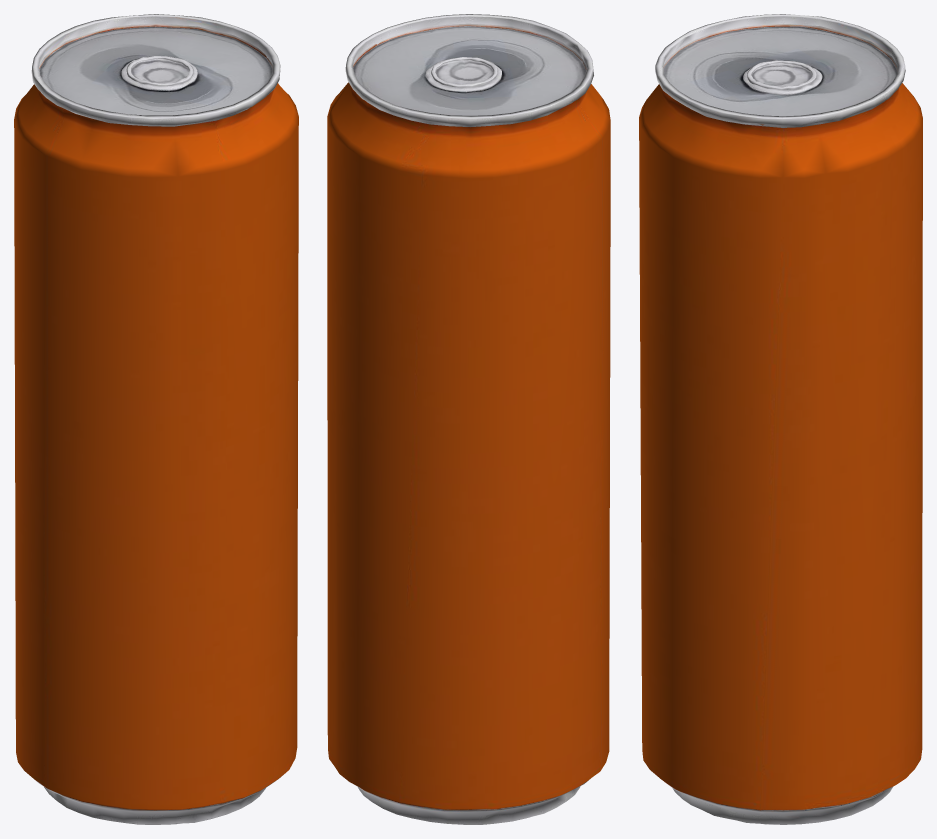
Rendered from canned-drink.glb.
3 views of the same model, side by side, from view 1: azimuth 30°, elevation 25°; view 2: azimuth 150°, elevation 25°; view 3: azimuth 270°, elevation 25° (orthographic).
Parts seen in each view (by area): view 1: canned-drink; view 2: canned-drink; view 3: canned-drink.
Boxes of the visible parts, <box> form: canned-drink: <box>14,14,298,824</box>; canned-drink: <box>327,14,610,824</box>; canned-drink: <box>639,14,922,824</box>.
Bounding box in the file's own units: 0.0508 × 0.14 × 0.0507.
Materials: 1 (1 with a texture image).
